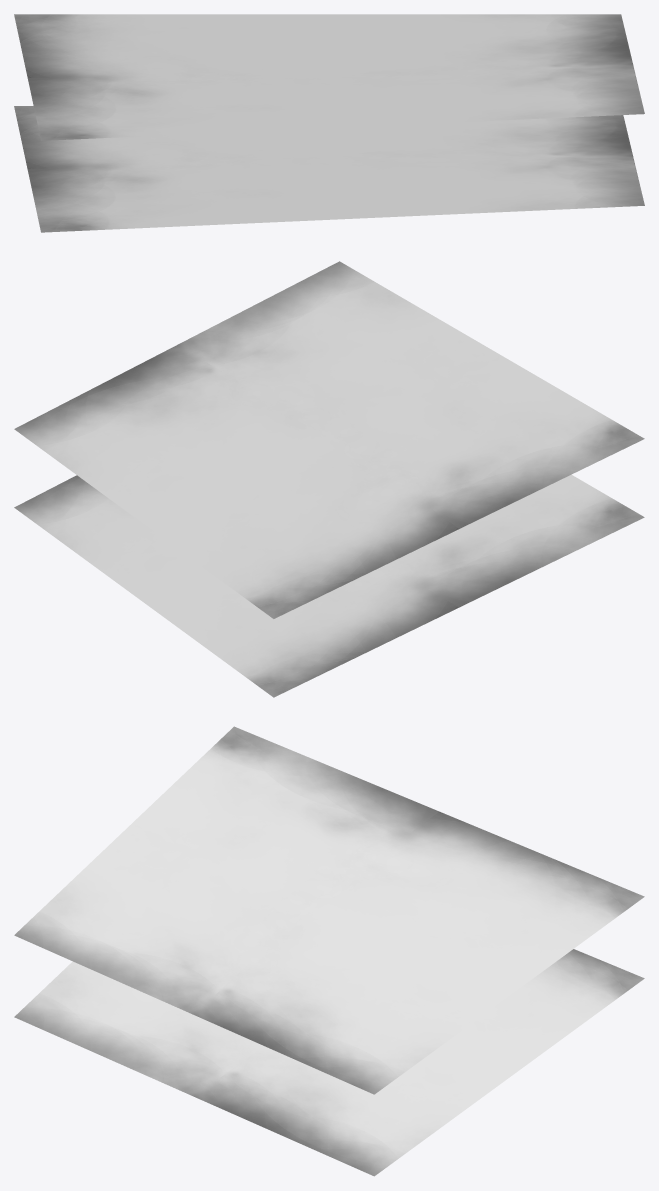
The model's file is CourseWinter_CurveFloor_1_5.fbx.
3 renders of one model, top to bottom at view 1: azimuth 30°, elevation 25°; view 2: azimuth 150°, elevation 25°; view 3: azimuth 270°, elevation 25°, orthographic. The views are drawn at different scales.
Parts seen in each view (by area): view 1: polySurface629; view 2: polySurface629; view 3: polySurface629.
Boxes of the visible parts, <box> form: polySurface629: <box>14,14,644,232</box>; polySurface629: <box>14,261,644,697</box>; polySurface629: <box>14,726,644,1176</box>.
Size of the model in its own units: 7.52 by 2 by 7.
Materials: 1 (1 with a texture image).
